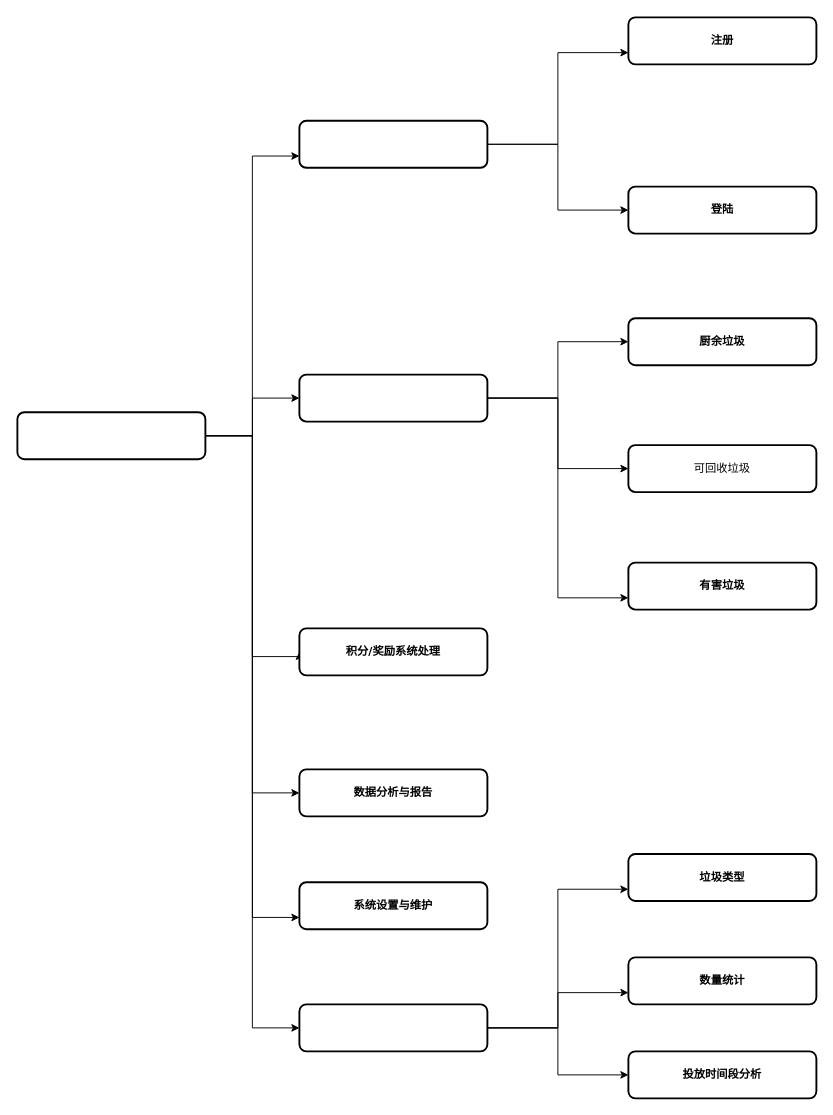
Some shapes in this 833 by 1115 pixel diagram are drawn without their labels. The shapes that lost their labels are listed below. From the top down, each one's centre as x and y in pixels, then its label:
point (393, 143): 用户管理
point (393, 397): 垃圾分类管理
point (111, 435): 垃圾分类系统后端功能结构图
point (393, 1027): 垃圾投放记录处理
